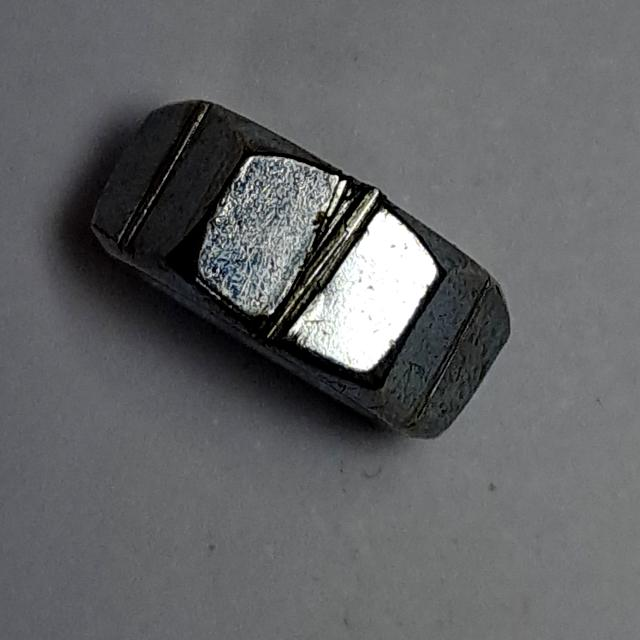Side_Scratches: (79, 81, 528, 458)
